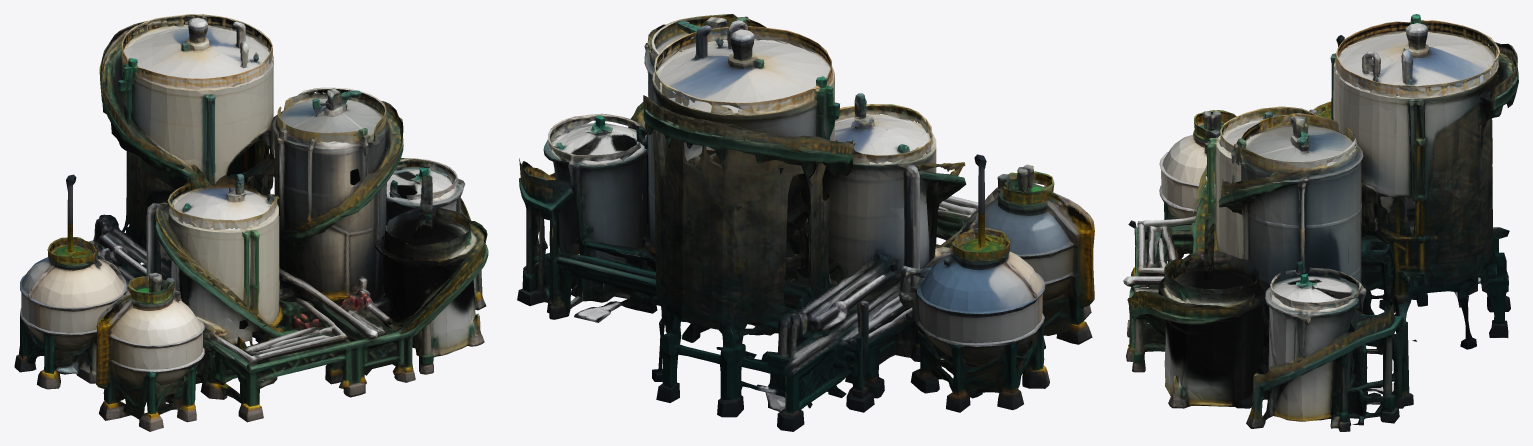
The model's file is hp_refinery_tanks.glb.
3 renders of one model, left to right at view 1: azimuth 30°, elevation 25°; view 2: azimuth 150°, elevation 25°; view 3: azimuth 270°, elevation 25°, orthographic. The views are drawn at different scales.
Parts seen in each view (by area): view 1: world; view 2: world; view 3: world.
Boxes of the visible parts, bbox=[...] form: world: bbox=[14, 14, 488, 431]; world: bbox=[517, 14, 1094, 431]; world: bbox=[1123, 14, 1518, 431].
Size of the model in its own units: 0.9818 by 0.6323 by 0.7461.
1 material, 1 textured.
